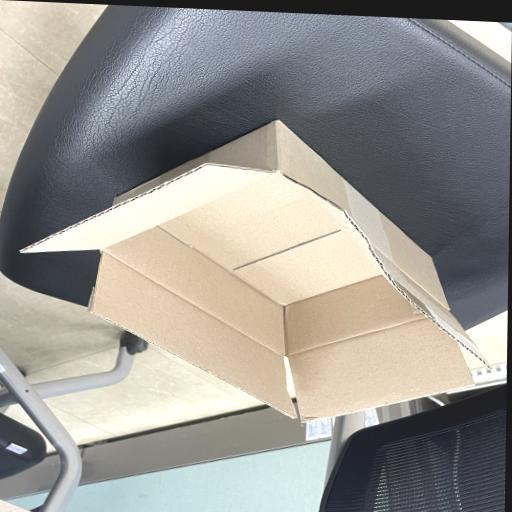box: (17, 120, 493, 420)
opened: (18, 162, 493, 420)
